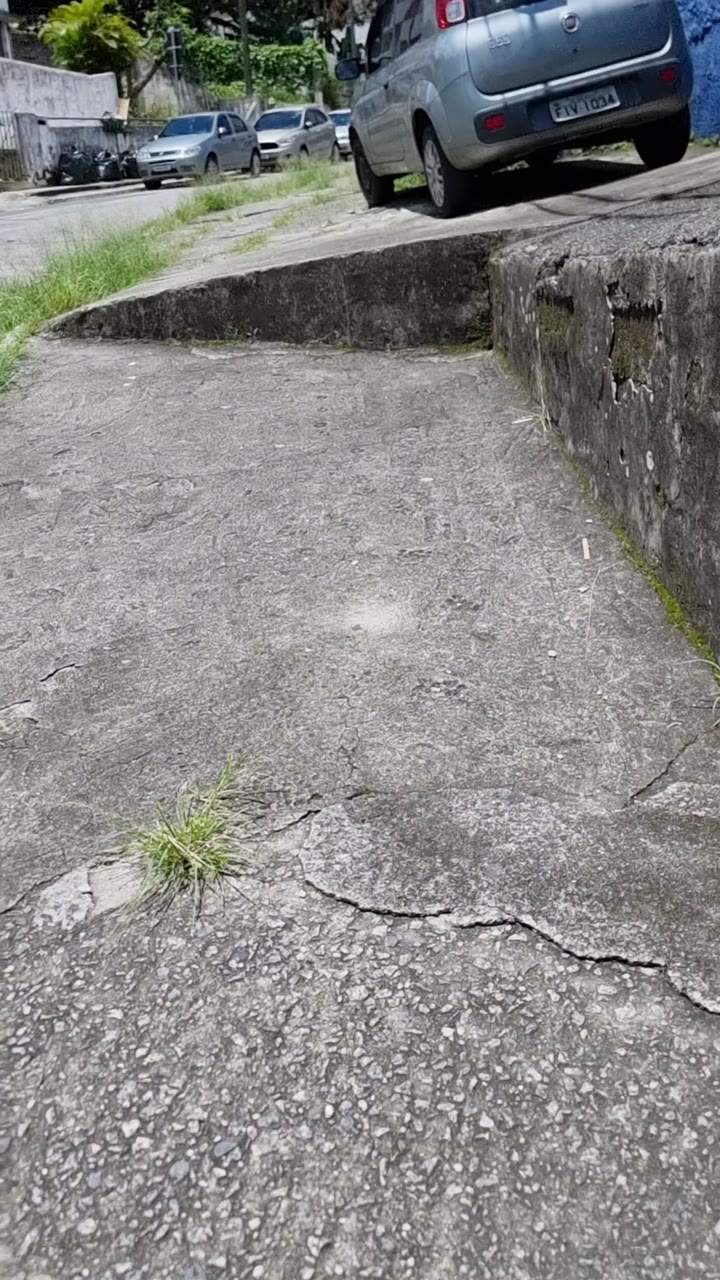desnivel: (0, 230, 540, 358)
